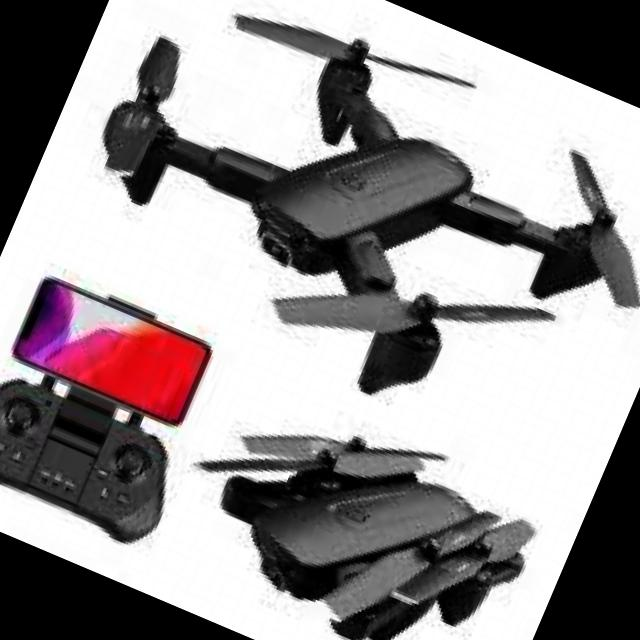drone: (22, 0, 640, 480)
